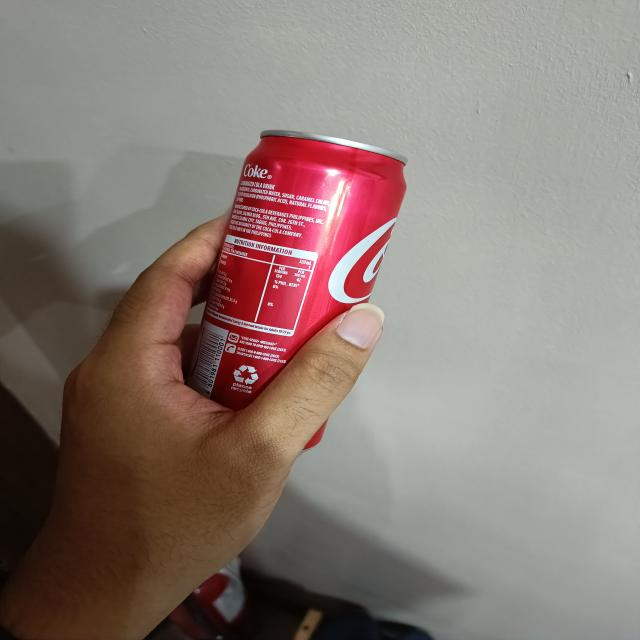coke: (172, 130, 410, 449)
